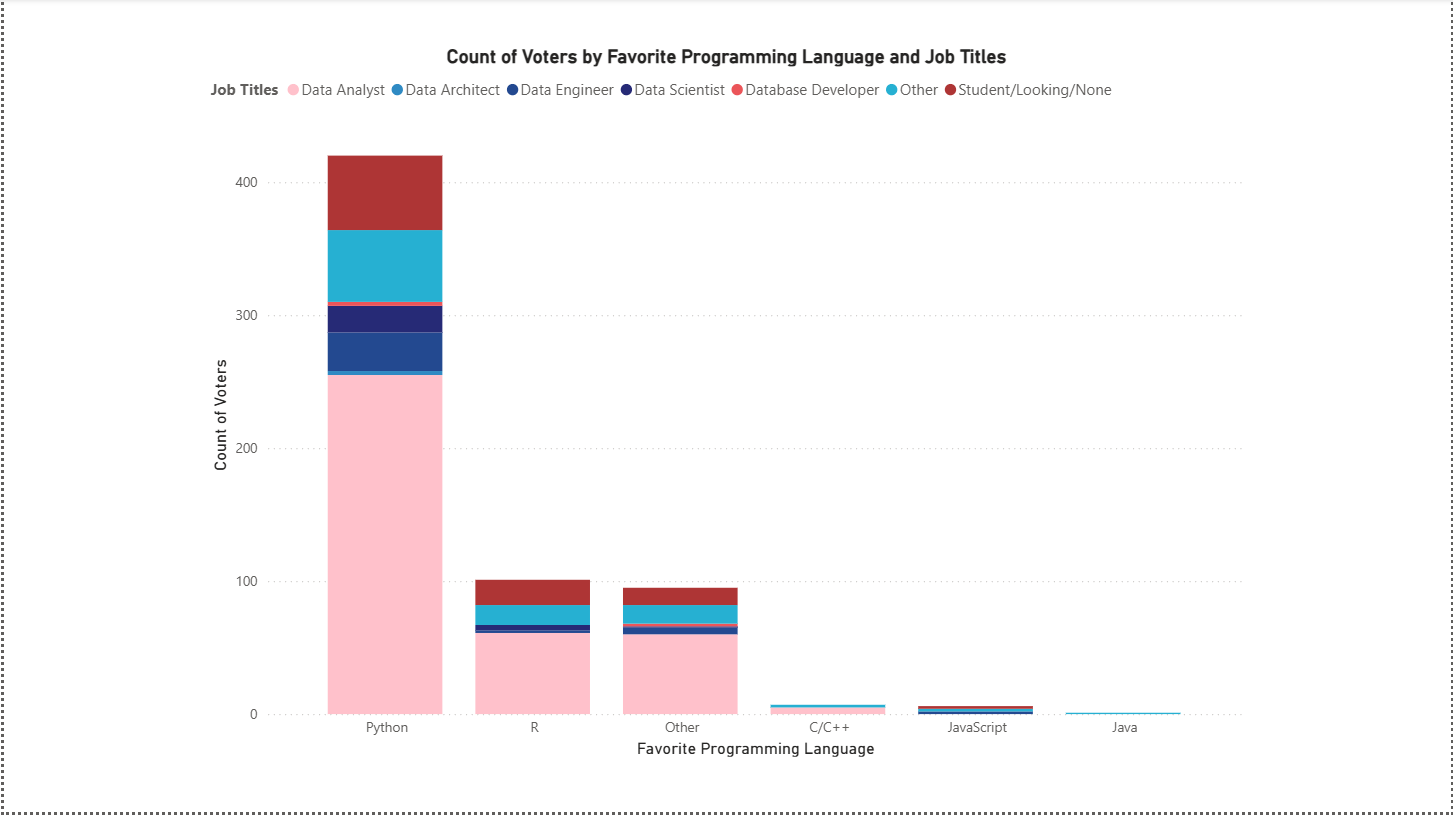

Layout of this report page (visuals, bound fields, positions):
{"tool":"powerbi","page":{"name":"Page 3","canvas":[1280,720],"ordinal":2},"visuals":[{"type":"columnChart","fields":{"Y":["CountNonNull(Data Professional Survey.Unique ID)"],"Category":["Data Professional Survey.Q5 - Favorite Programming Language.1"],"Series":["Data Professional Survey.Q1 - Which Title Best Fits your Current Role?.1"]},"box":[177.5,41.6,922.8,634.9],"z":0}]}

Visuals, with their boxes in screenshot pixels (x1, y1, x2, y2), scaled from the page's 1280x720 canvas onto the 1453x817 screenshot:
columnChart - CountNonNull(Data Professional Survey.Unique ID) x Data Professional Survey.Q5 - Favorite Programming Language.1: bbox=(201, 47, 1249, 768)
